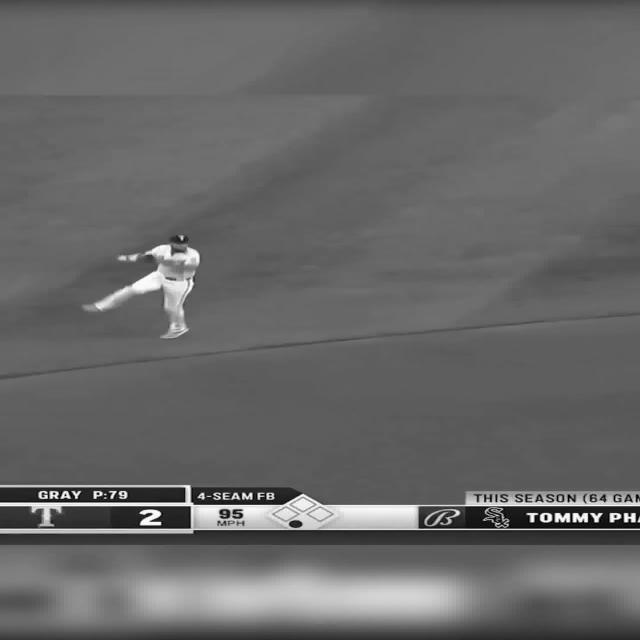baseball_glove: (116, 252, 144, 263)
shoe: (160, 327, 190, 339), (81, 303, 103, 313)
